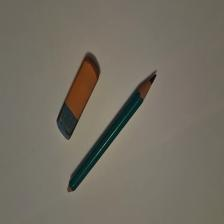eraser: (58, 59, 101, 142)
pencil: (69, 75, 158, 195)
